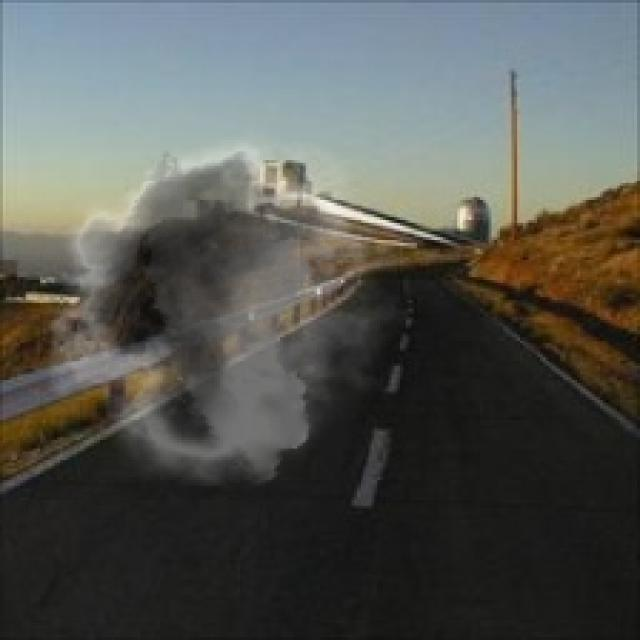smoke: (29, 120, 412, 486)
